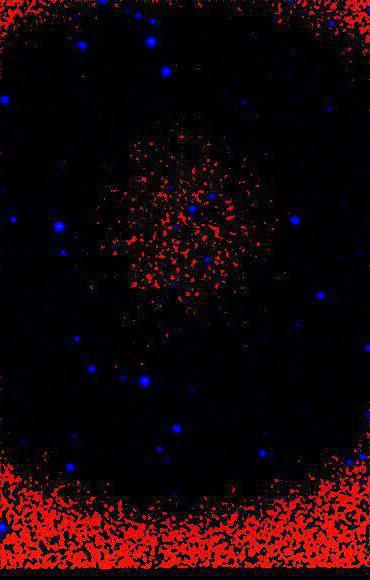star: (139, 145, 169, 175)
